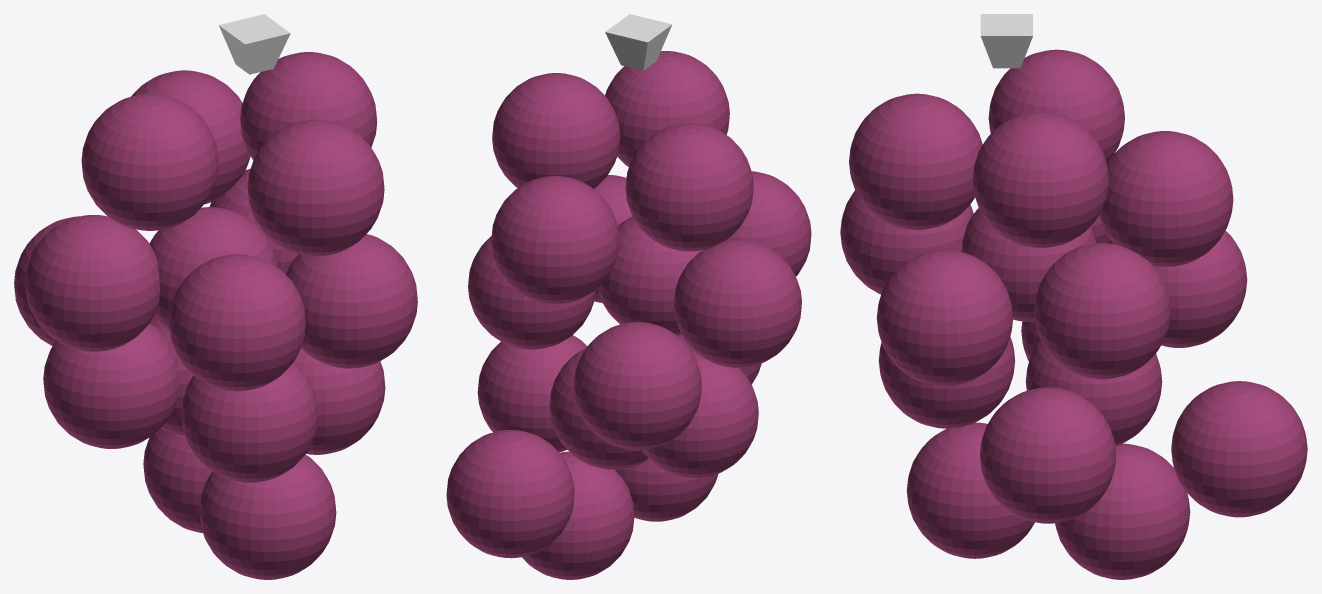
The model's file is uvas.gltf.
The picture shows the model from 3 angles, left to right: view 1: azimuth 30°, elevation 25°; view 2: azimuth 150°, elevation 25°; view 3: azimuth 270°, elevation 25°; orthographic projection. The views are drawn at different scales.
Visible parts, largest first — view 1: Sphere.005, Sphere.007, Sphere.001, Sphere.011, Sphere.003, Sphere.014, Sphere.016, Sphere.009, Sphere.002, Sphere.008, Sphere.013, Sphere.006 (+5 smaller); view 2: Sphere.005, Sphere.017, Sphere.006, Sphere.012, Sphere.011, Sphere.002, Sphere.001, Sphere.015, Sphere.016, Sphere.013, Sphere.004, Sphere.008 (+5 smaller); view 3: Sphere.017, Sphere.003, Sphere.002, Sphere.013, Sphere.004, Sphere.001, Sphere.006, Sphere.015, Sphere.014, Sphere.005, Sphere.012, Sphere.007 (+4 smaller).
Part boxes in pixels (<box>): Sphere.005: <box>81,94,218,230</box>; Sphere.007: <box>169,254,305,391</box>; Sphere.001: <box>247,119,384,256</box>; Sphere.011: <box>25,215,160,351</box>; Sphere.003: <box>286,234,417,368</box>; Sphere.014: <box>199,454,336,579</box>; Sphere.016: <box>43,323,178,448</box>; Sphere.009: <box>181,362,318,482</box>; Sphere.002: <box>240,52,377,160</box>; Sphere.008: <box>149,207,277,330</box>; Sphere.013: <box>294,348,385,454</box>; Sphere.006: <box>131,70,250,204</box>; Sphere.005: <box>625,123,753,251</box>; Sphere.017: <box>446,430,574,558</box>; Sphere.006: <box>491,176,619,304</box>; Sphere.012: <box>573,322,701,450</box>; Sphere.011: <box>674,239,801,367</box>; Sphere.002: <box>492,73,620,188</box>; Sphere.001: <box>605,51,729,166</box>; Sphere.015: <box>522,451,634,579</box>; Sphere.016: <box>642,350,758,478</box>; Sphere.013: <box>477,335,587,452</box>; Sphere.004: <box>468,236,595,349</box>; Sphere.008: <box>597,216,702,335</box>; Sphere.017: <box>1171,381,1307,517</box>; Sphere.003: <box>876,249,1013,385</box>; Sphere.002: <box>972,112,1108,248</box>; Sphere.013: <box>980,387,1116,523</box>; Sphere.004: <box>1034,243,1170,379</box>; Sphere.001: <box>849,93,982,229</box>; Sphere.006: <box>1099,131,1233,267</box>; Sphere.015: <box>1055,443,1190,579</box>; Sphere.014: <box>906,422,1034,558</box>; Sphere.005: <box>988,49,1124,163</box>; Sphere.012: <box>1154,230,1247,347</box>; Sphere.007: <box>840,190,973,294</box>.
Bounding box in the file's own units: 2.82 × 4.38 × 3.42.
1 material, 1 textured.
